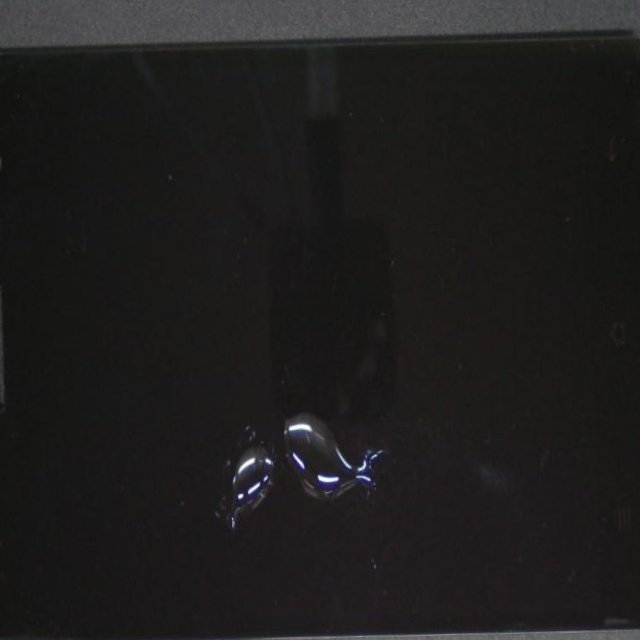oil: (147, 188, 498, 640), (106, 189, 385, 640)
